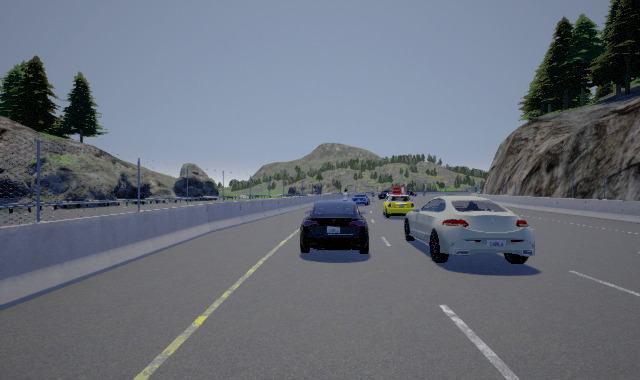vehicle: (404, 197, 535, 263), (298, 199, 370, 254), (382, 192, 416, 220), (350, 193, 371, 206)
